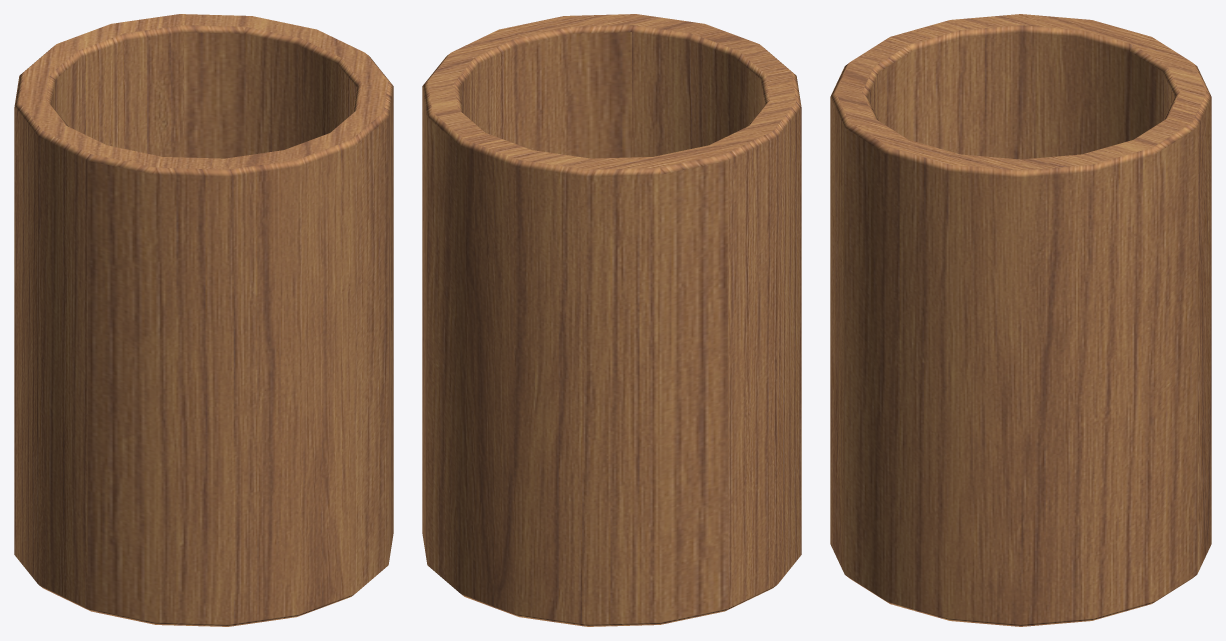
File: SM_penholder_02.fbx
The picture shows the model from 3 angles, left to right: view 1: azimuth 30°, elevation 25°; view 2: azimuth 150°, elevation 25°; view 3: azimuth 270°, elevation 25°; orthographic projection.
Parts seen in each view (by area): view 1: penholder01; view 2: penholder01; view 3: penholder01.
Part boxes in pixels (bbox=[...]): penholder01: bbox=[14, 14, 393, 626]; penholder01: bbox=[422, 14, 801, 626]; penholder01: bbox=[830, 14, 1211, 626].
Bounding box in the file's own units: 3.33 × 4.39 × 3.33.
1 material, 1 textured.
